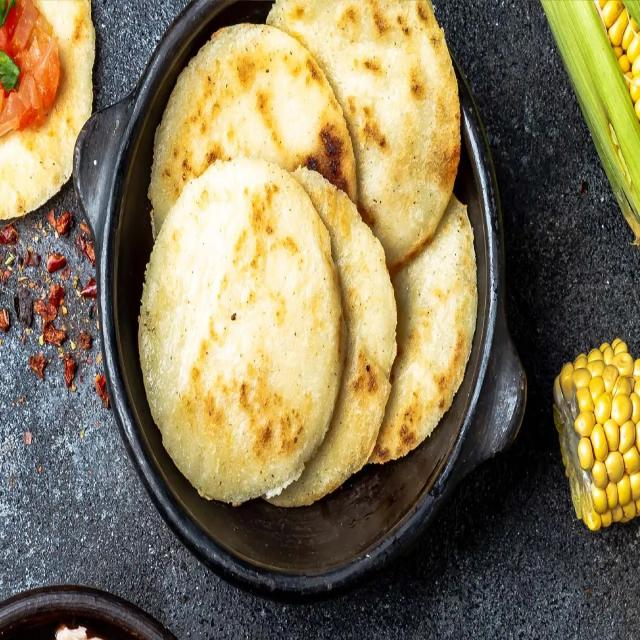arepa: (134, 158, 350, 516)
